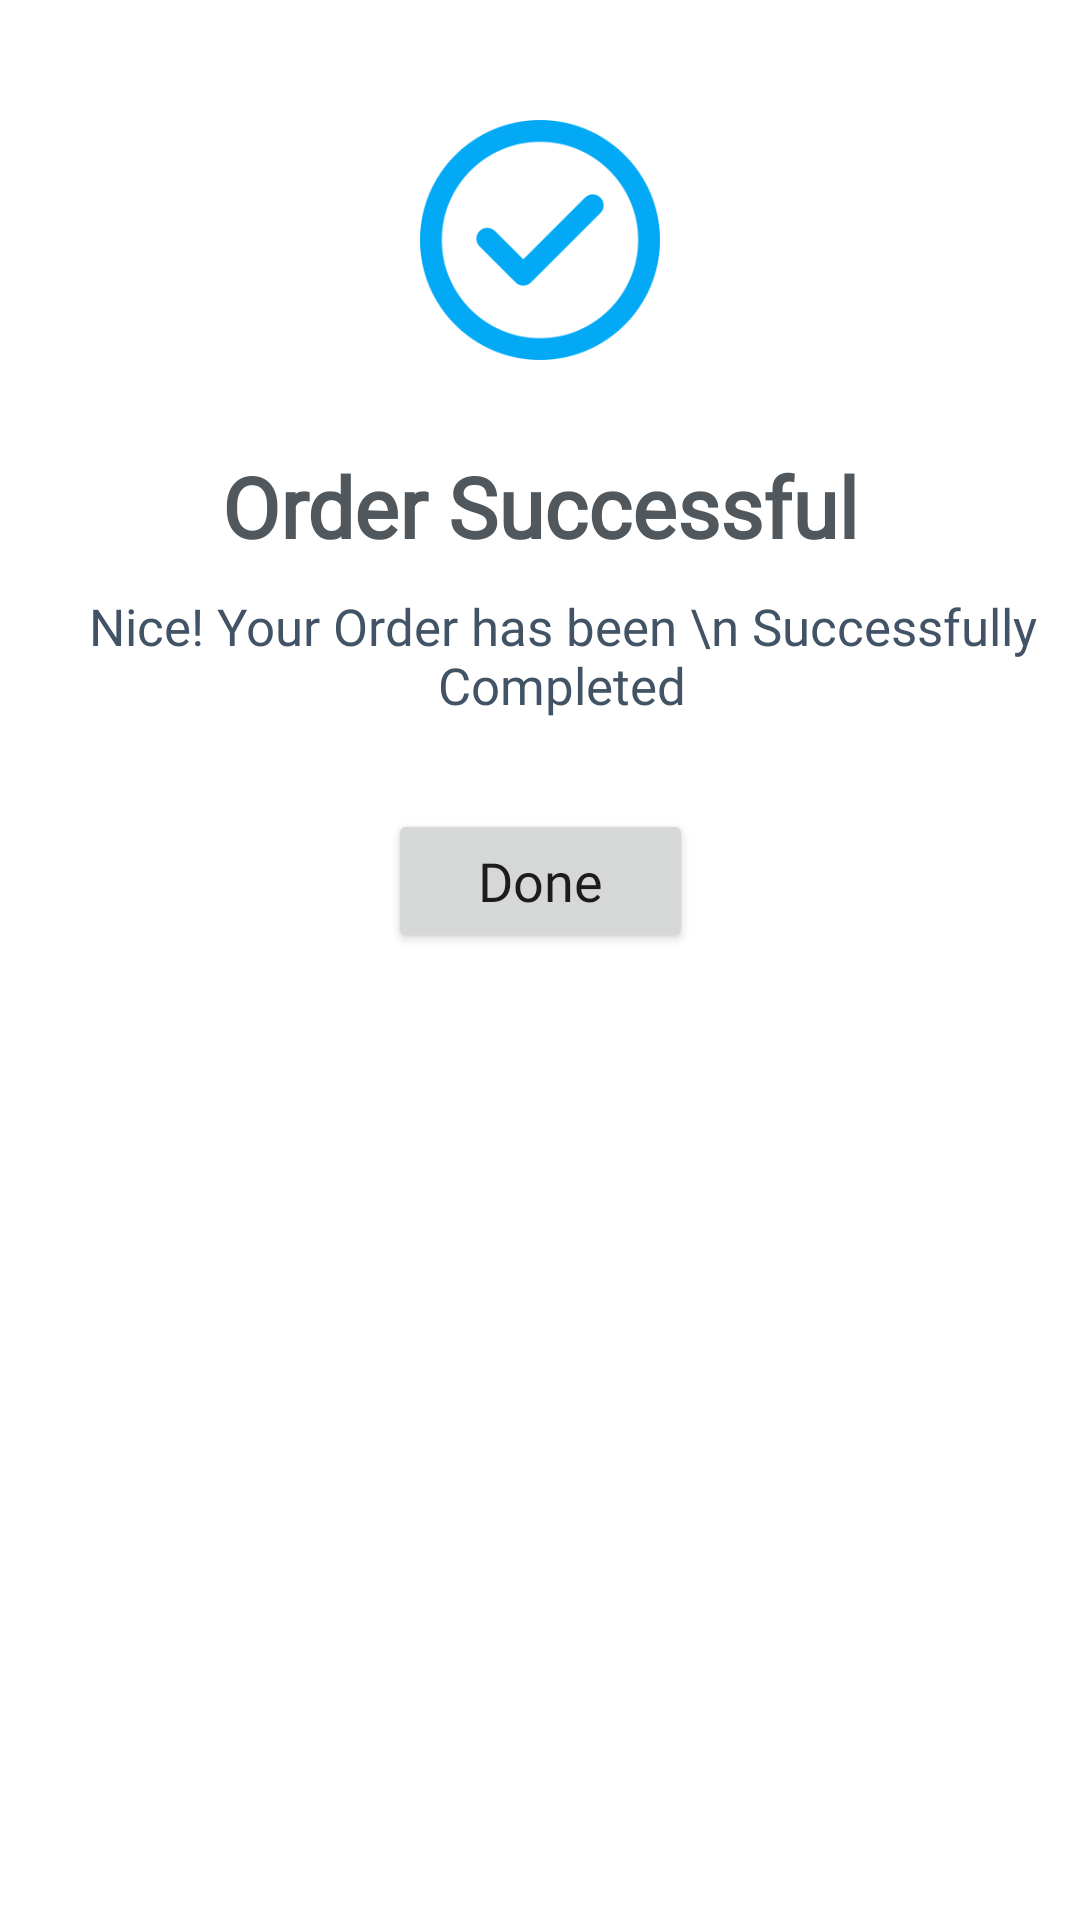

Named icons in this screenshot (1080*1920) and their centers, (x,y):
checked: (540,240)
